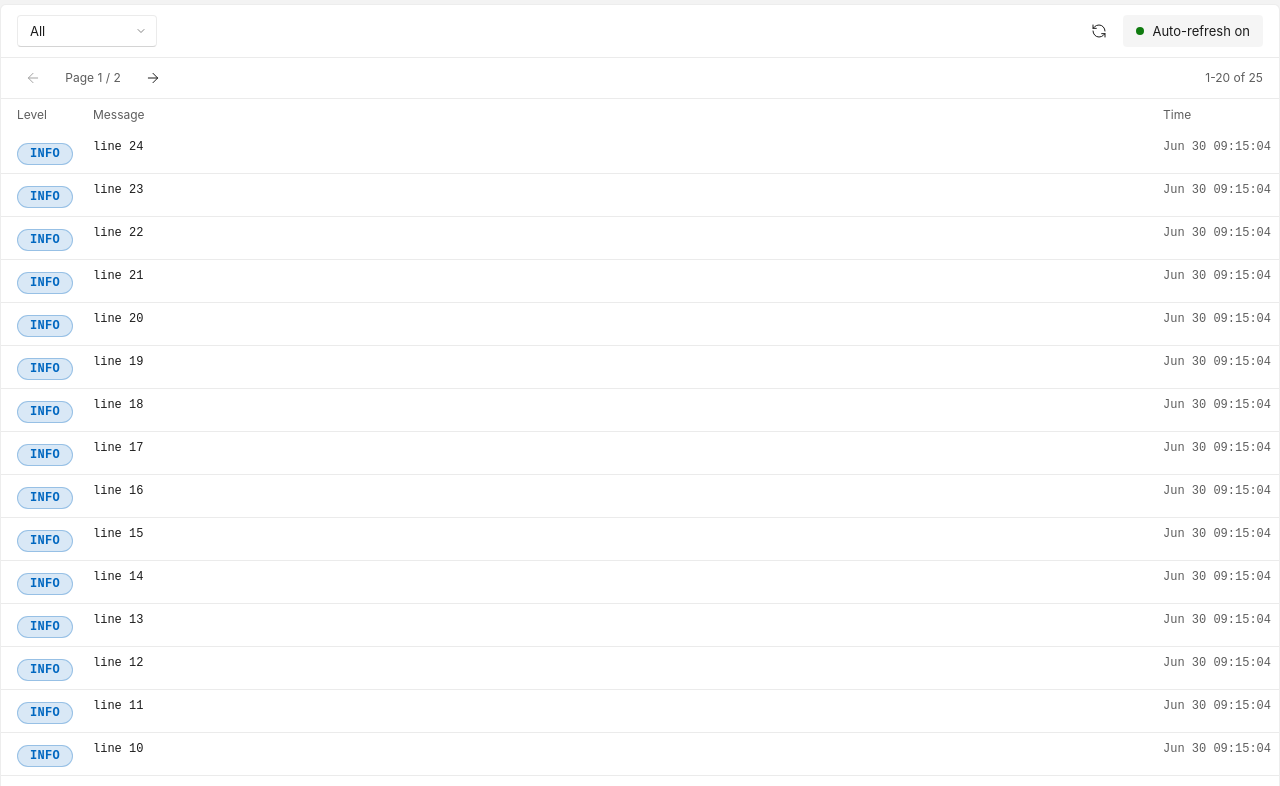
Test: LogViewer › paginates 20 entries per page
This screenshot has width=1280, height=786.
Expected: the text "1-20 of 25" is shown, [1205, 70, 1263, 86]
Expected: the text "Page 1 / 2" is shown, [65, 70, 121, 85]
Click the button named "Next page". click: click(153, 78)
box: [137, 62, 169, 94]
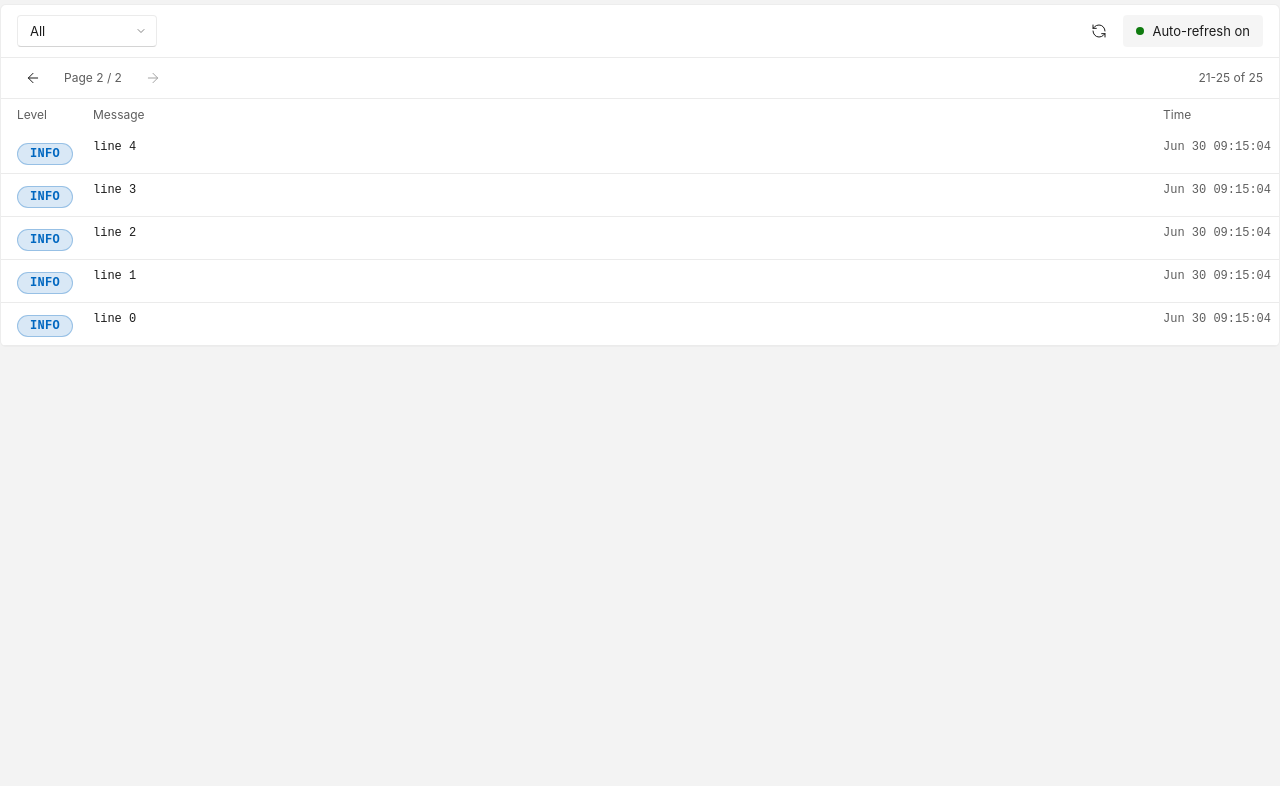
Now the text "21-25 of 25" is shown, box [1198, 70, 1263, 86]
Now the text "Page 2 / 2" is shown, box [64, 70, 122, 85]
